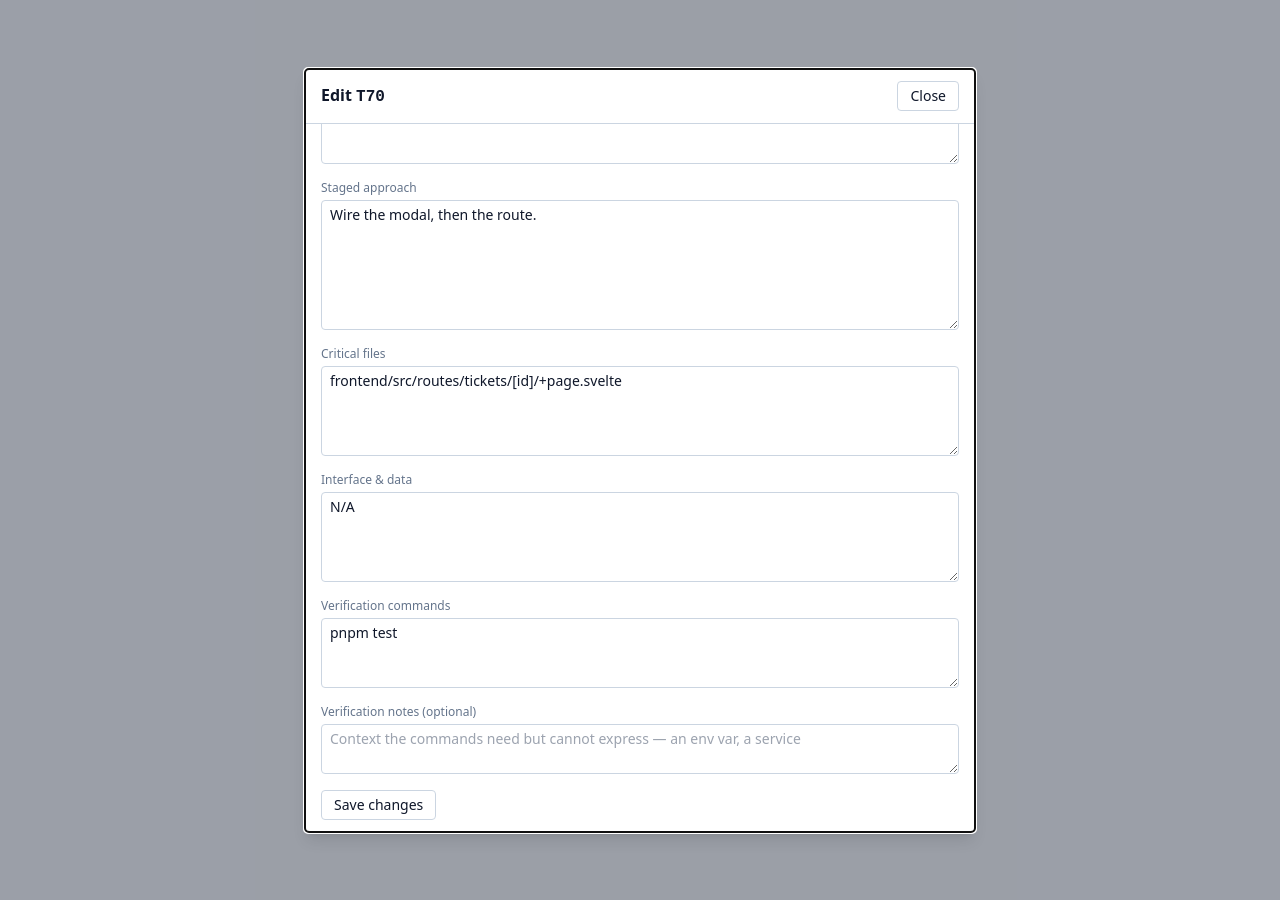
Scenario: EditTicketModal › renders a failed dry-run as an ApiErrorView with save inert
The image size is (1280, 900).
(page scrolled)
What coordinates should you click on to do the following:
click the button "Save changes"
I would click on:
 (379, 804)
Its box is [321,790,436,820].
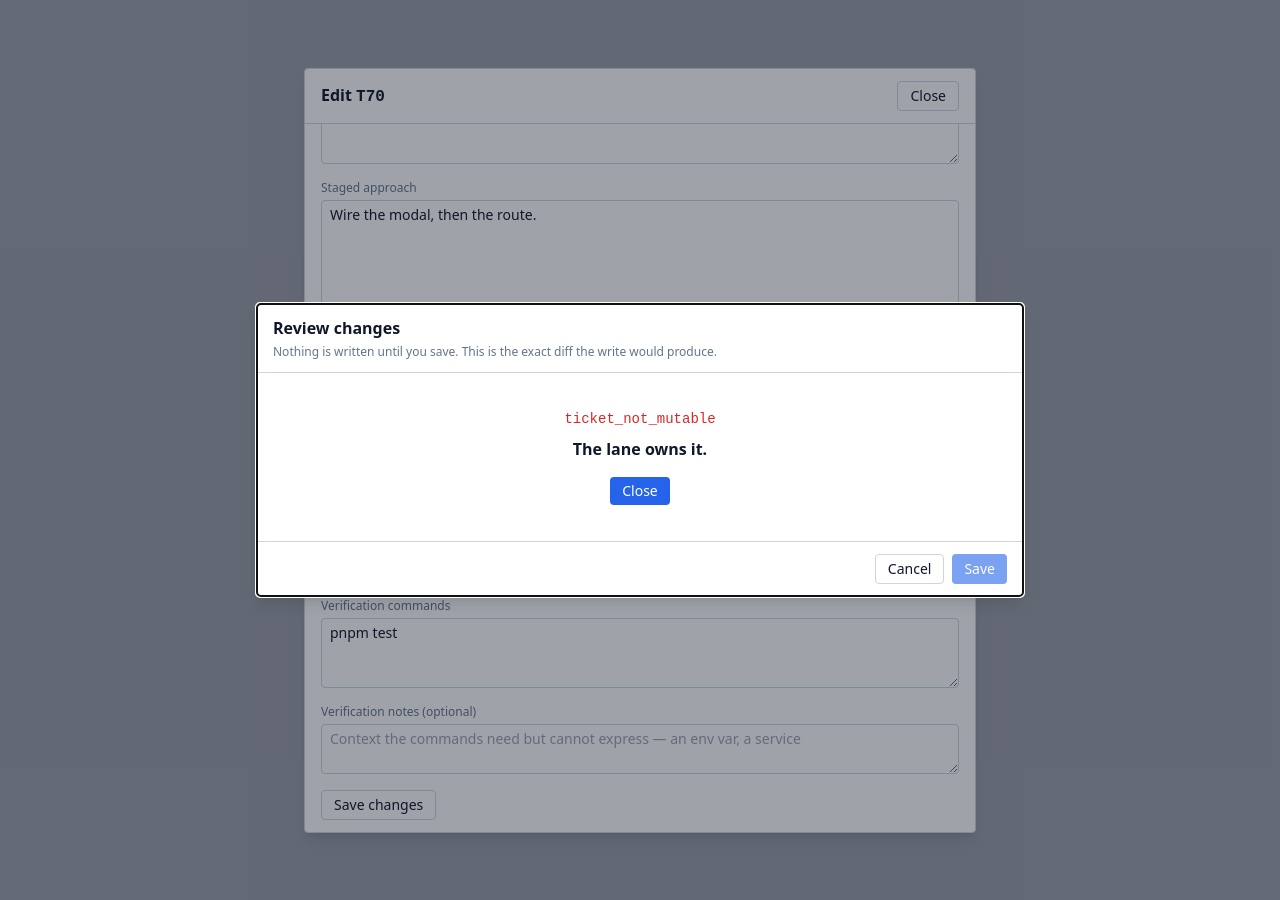
expect the text "ticket_not_mutable" is shown: met, box [564,411,716,427]
expect the heading "The lane owns it." is shown: met, box [573,438,707,460]
expect the button "Save" is disabled: met, box [952,554,1007,584]
